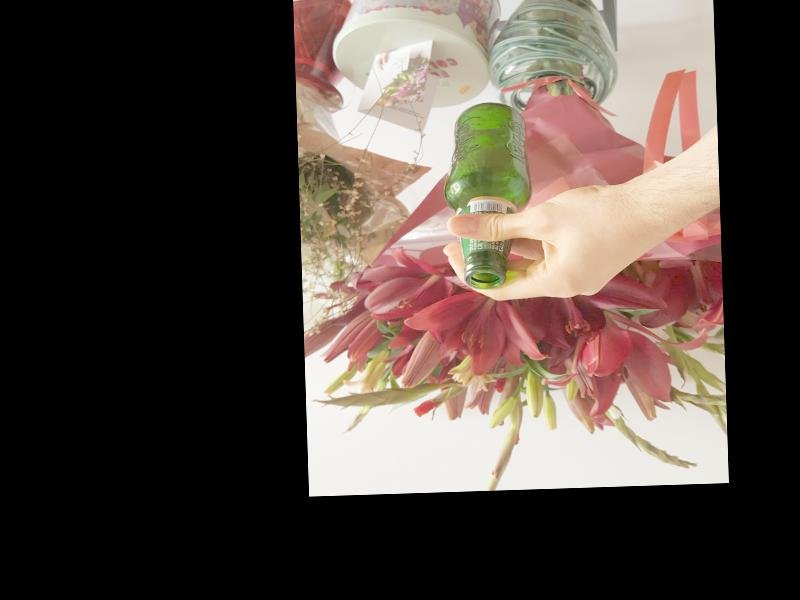Beer: (441, 100, 531, 289)
